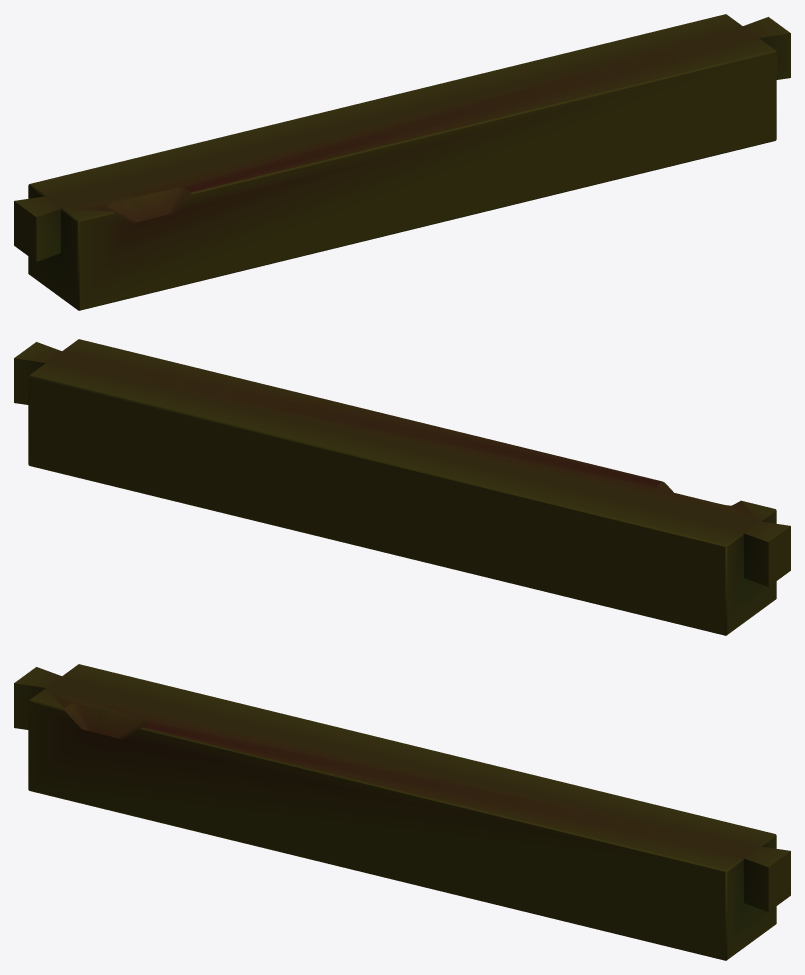
3 renders of one model, top to bottom at view 1: azimuth 30°, elevation 25°; view 2: azimuth 150°, elevation 25°; view 3: azimuth 330°, elevation 25°, orthographic.
Parts seen in each view (by area): view 1: body; view 2: body; view 3: body.
Boxes of the visible parts, left/top/right/bottom form: body: left=14, top=14, right=790, bottom=310; body: left=14, top=339, right=790, bottom=635; body: left=14, top=664, right=790, bottom=960.
Bounding box in the file's own units: 6 × 0.69 × 0.7002.
